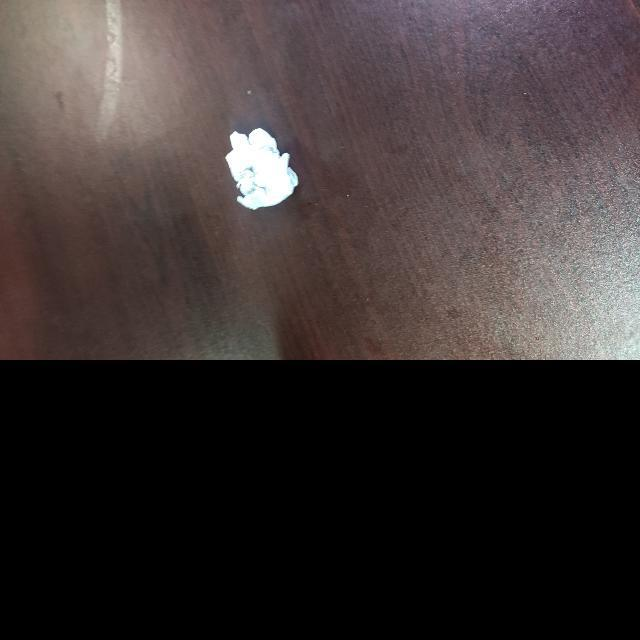kitchen paper: (222, 124, 304, 216)
